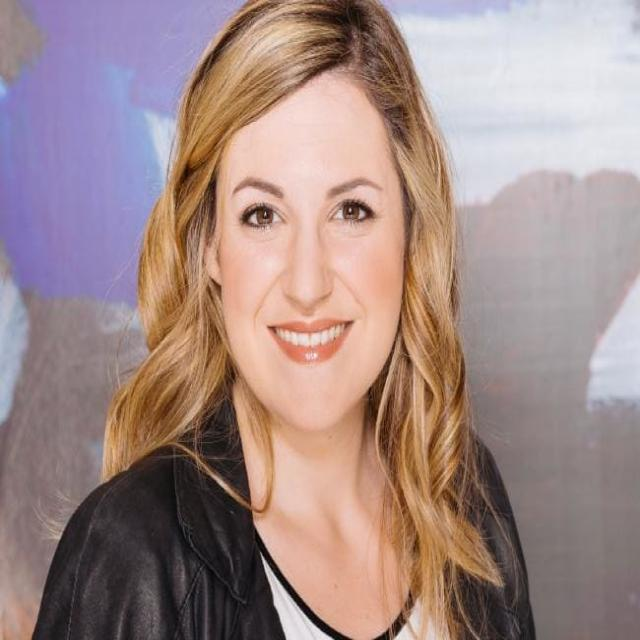mobile_phonerotation: (23, 0, 540, 639)
